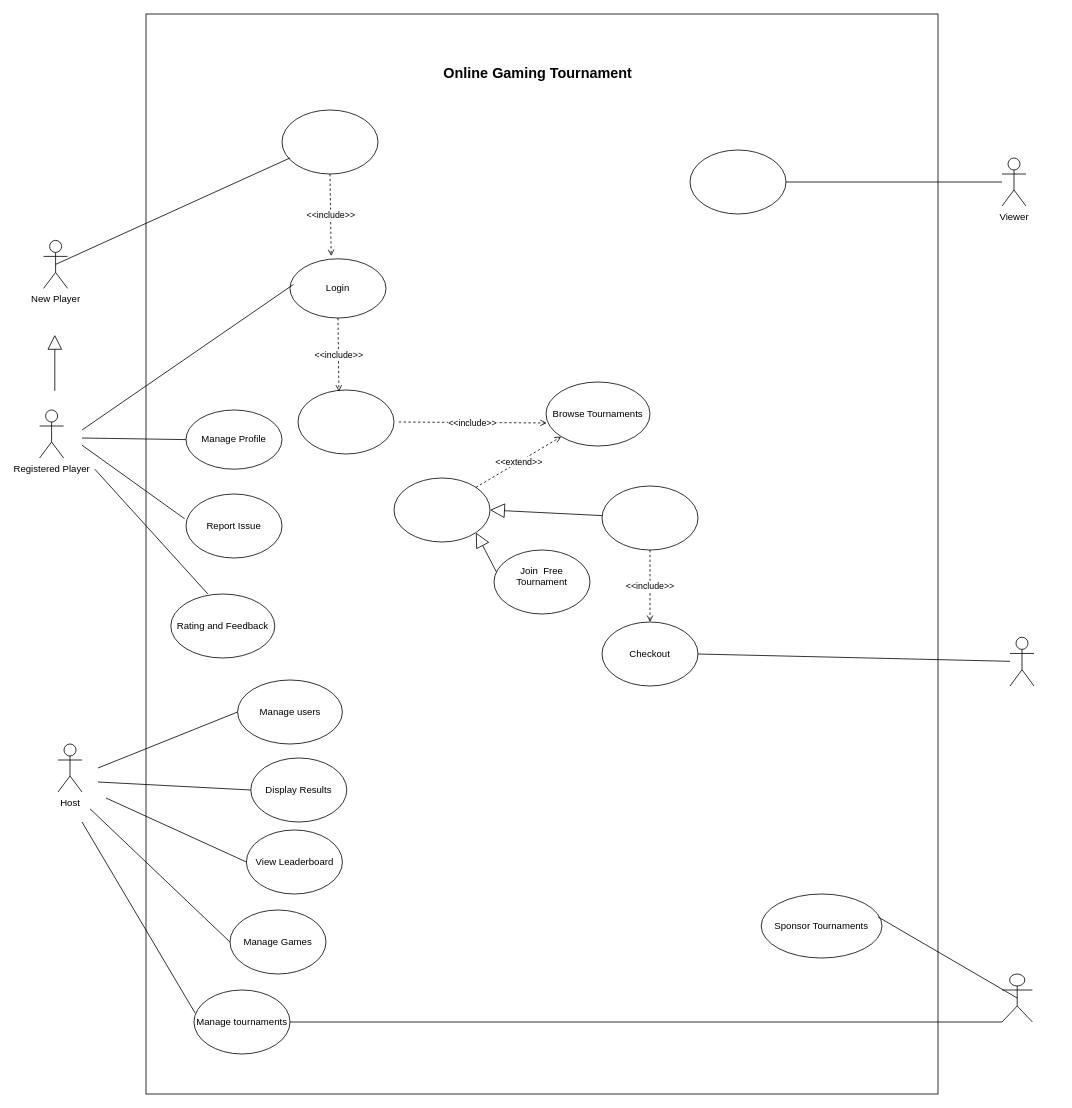
This 1072x1108 diagram has some shape labels left out. The centre of each missing label's shape, as x and y in pixels:
"Join Premium Tournament" goes at point (649, 517).
"Join Tournament" goes at point (441, 509).
"Payment Service" goes at point (1021, 661).
"Register" goes at point (329, 141).
"Select Game" goes at point (345, 421).
"Sponsor" goes at point (1016, 997).
"Watch Live Stream" goes at point (737, 181).
